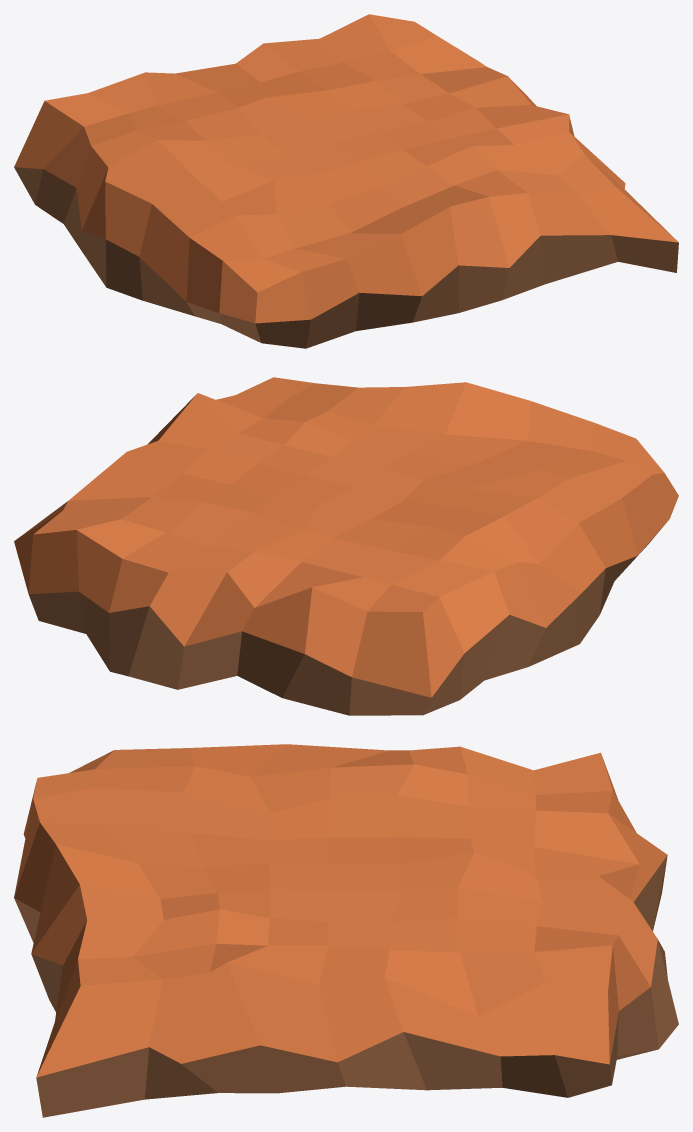
Rendered from platform1.obj.
3 views of the same model, one above another, from view 1: azimuth 30°, elevation 25°; view 2: azimuth 150°, elevation 25°; view 3: azimuth 270°, elevation 25° (orthographic). The views are drawn at different scales.
Visible parts, largest first — view 1: platform1_Cube; view 2: platform1_Cube; view 3: platform1_Cube.
Boxes of the visible parts, x1,y1,x2,y2 form: platform1_Cube: (14,14,678,348); platform1_Cube: (14,377,678,715); platform1_Cube: (14,744,678,1117).
Size of the model in its own units: 1.8 by 0.5133 by 1.86.
